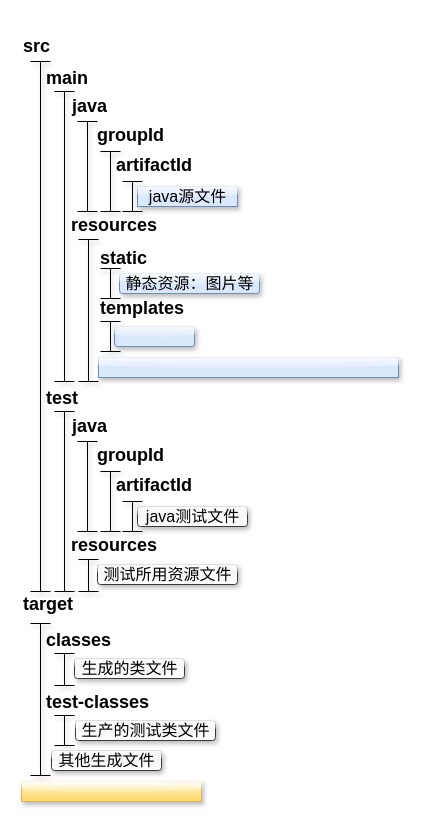
Some shapes in this 422 by 826 pixel diagram are drawn without their labels. The centre of each missing label's shape, as x and y in pixels:
application.properties 属性配置文件: the point at 249,368
pom.xml 依赖管理文件: the point at 112,792
视图模板: the point at 155,338
